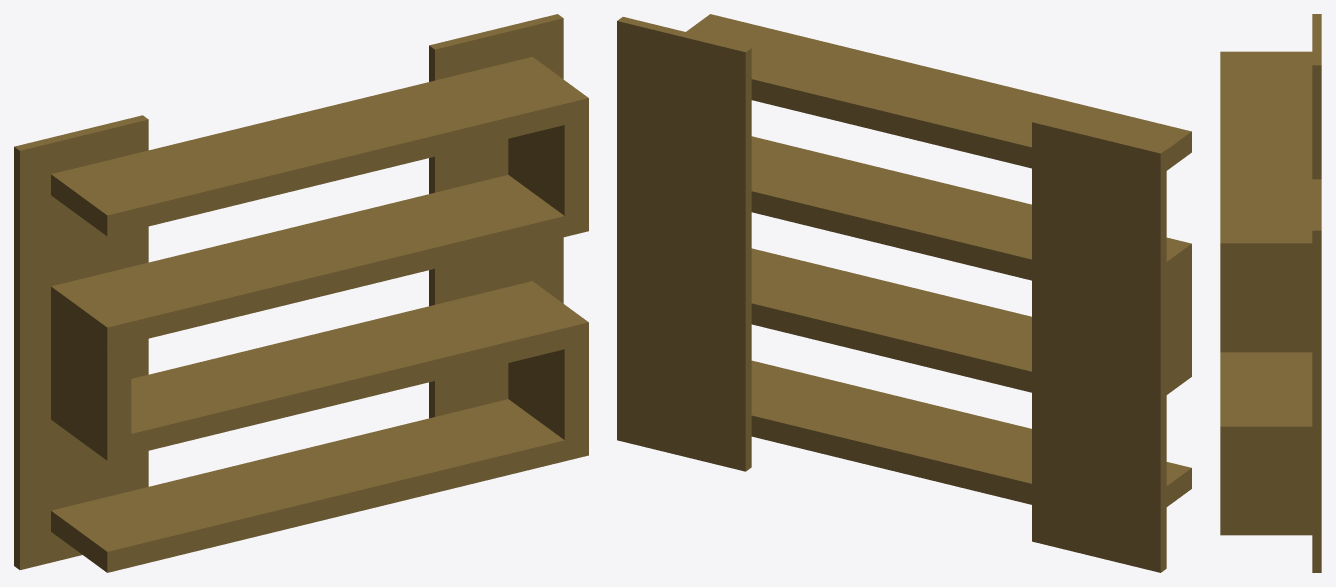
The model's file is shelf_2 1.fbx.
The picture shows the model from 3 angles, left to right: view 1: azimuth 30°, elevation 25°; view 2: azimuth 150°, elevation 25°; view 3: azimuth 270°, elevation 25°; orthographic projection. The views are drawn at different scales.
Parts seen in each view (by area): view 1: room:pCube63; view 2: room:pCube63; view 3: room:pCube63.
Part boxes in pixels (left/top/right/bottom): room:pCube63: left=14, top=14, right=588, bottom=572; room:pCube63: left=617, top=14, right=1191, bottom=572; room:pCube63: left=1220, top=14, right=1321, bottom=572.
Bounding box in the file's own units: 1216 × 896 × 241.
